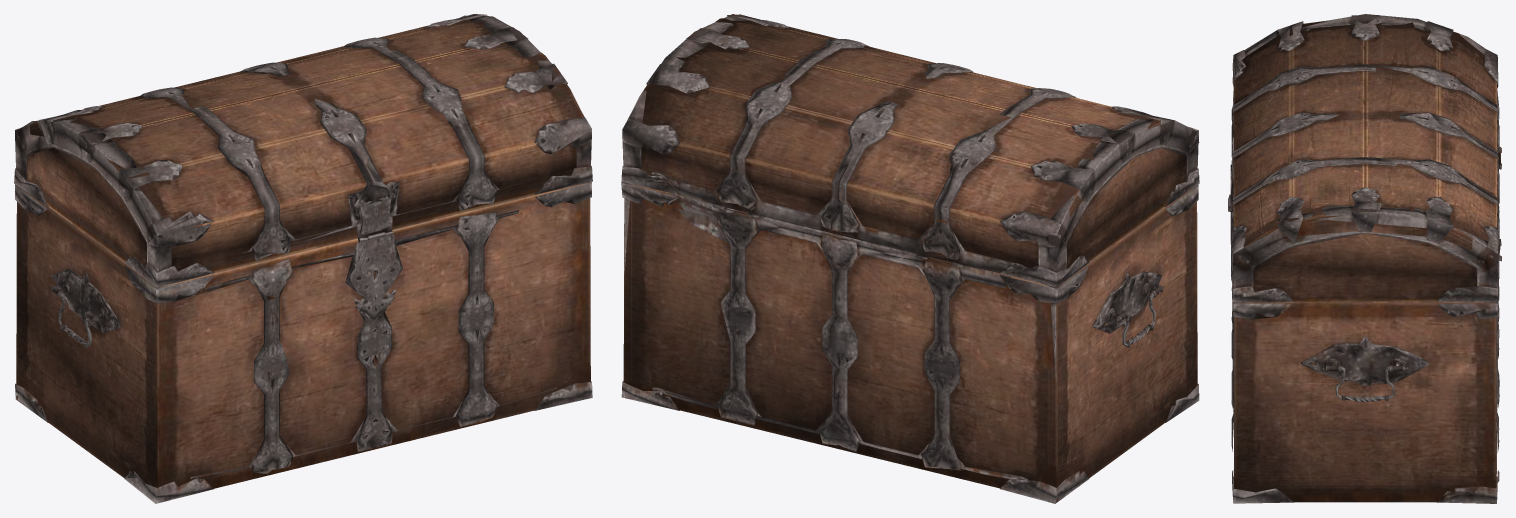
Rendered from treasure_chest.glb.
3 renders of one model, left to right at view 1: azimuth 30°, elevation 25°; view 2: azimuth 150°, elevation 25°; view 3: azimuth 270°, elevation 25°, orthographic. The views are drawn at different scales.
Visible parts, largest first — view 1: treasure_chest_bottom, treasure_chest_lid, treasure_chest_lock, treasure_chest_handle_left; view 2: treasure_chest_bottom, treasure_chest_lid, treasure_chest_handle_left; view 3: treasure_chest_lid, treasure_chest_bottom, treasure_chest_handle_right.
Boxes of the visible parts, x1,y1,x2,y2 form: treasure_chest_bottom: (15,182,592,503); treasure_chest_lid: (14,14,592,287); treasure_chest_lock: (350,232,400,321); treasure_chest_handle_left: (51,285,99,347); treasure_chest_bottom: (621,182,1199,503); treasure_chest_lid: (621,14,1199,287); treasure_chest_handle_left: (1115,285,1163,347); treasure_chest_lid: (1228,14,1501,302); treasure_chest_bottom: (1231,122,1499,503); treasure_chest_handle_right: (1322,365,1407,401).
Bounding box in the file's own units: 0.9549 × 0.6158 × 0.5223.
Materials: 1 (1 with a texture image).
